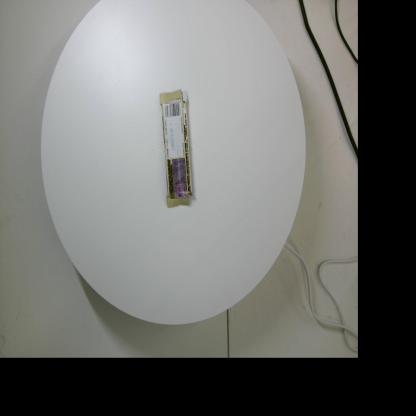Chocolate: (160, 89, 194, 208)
